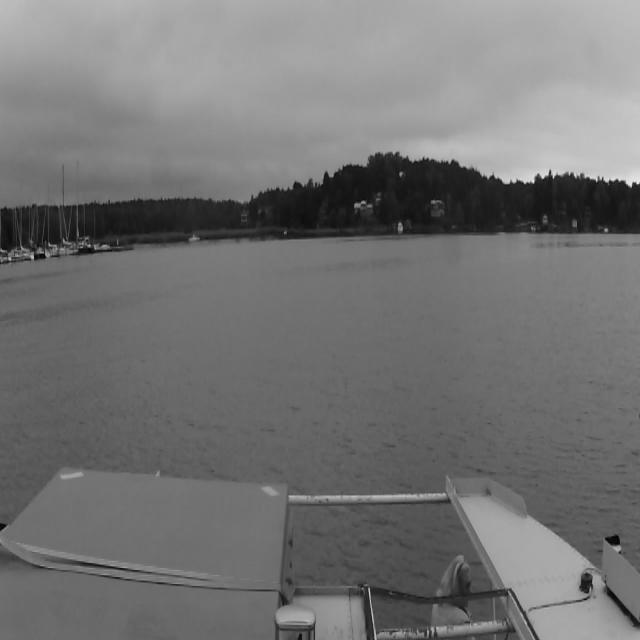ship: (58, 163, 79, 255), (9, 209, 35, 259), (35, 201, 51, 258), (80, 203, 94, 253)
